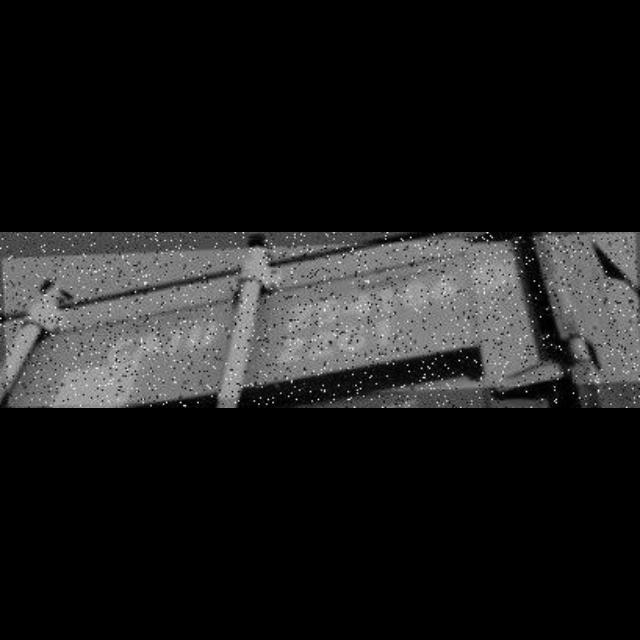1: (371, 316, 403, 356)
2: (302, 327, 336, 367), (276, 334, 304, 366)
6: (430, 262, 464, 310), (334, 323, 370, 359)
7: (372, 273, 401, 319), (280, 298, 312, 334)
8: (402, 270, 428, 316)
a: (138, 324, 166, 364)
c: (108, 329, 136, 371)
i: (166, 324, 184, 362)
u: (185, 320, 221, 354)
